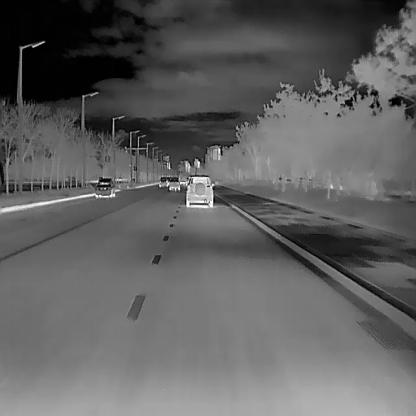car: (184, 174, 214, 207), (94, 176, 115, 197), (168, 180, 180, 190), (158, 176, 168, 187)
